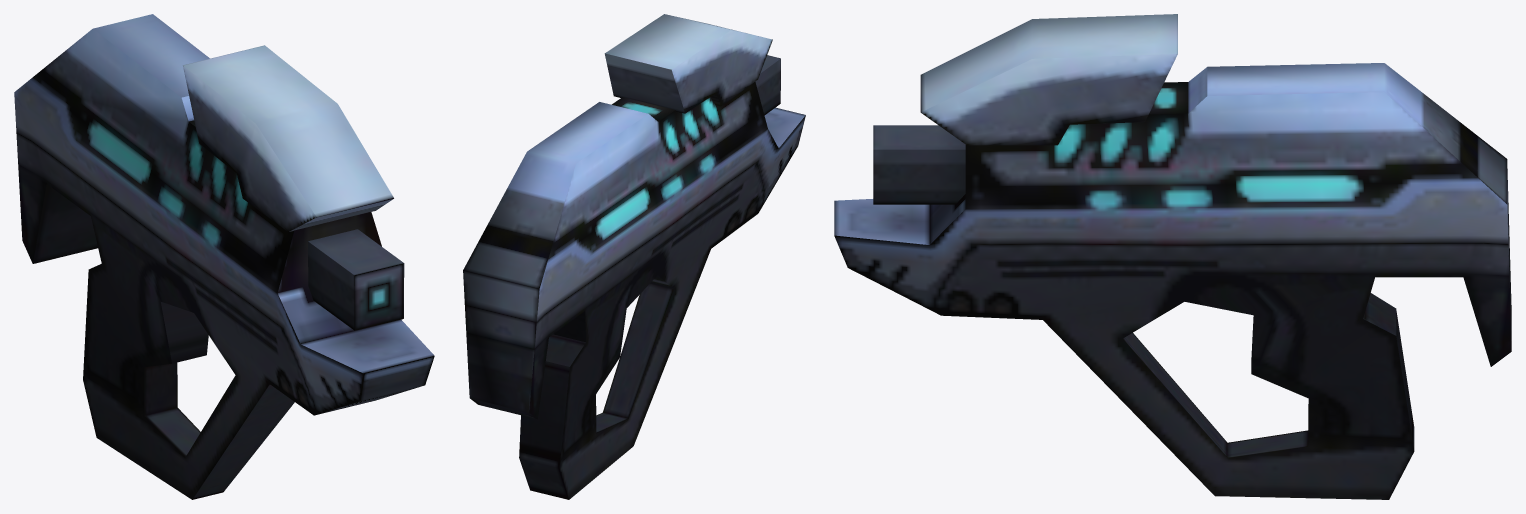
The model's file is blaster.obj.
The picture shows the model from 3 angles, left to right: view 1: azimuth 30°, elevation 25°; view 2: azimuth 150°, elevation 25°; view 3: azimuth 270°, elevation 25°; orthographic projection. The views are drawn at different scales.
Visible parts, largest first — view 1: weapon_051; view 2: weapon_051; view 3: weapon_051.
Boxes of the visible parts, x1,y1,x2,y2 form: weapon_051: [14, 14, 434, 499]; weapon_051: [463, 14, 805, 499]; weapon_051: [834, 14, 1511, 499].
Bounding box in the file's own units: 0.1312 × 0.5162 × 0.6992.
1 material, 1 textured.
